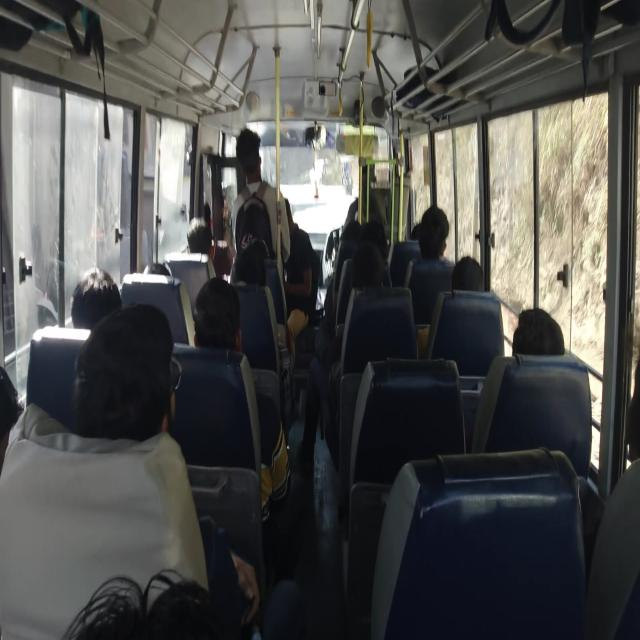person: (31, 520, 321, 640), (81, 296, 198, 478), (268, 189, 322, 335), (507, 294, 568, 388), (617, 351, 640, 473), (188, 285, 233, 344), (68, 256, 111, 311), (330, 248, 379, 293), (235, 136, 270, 193), (178, 214, 216, 260), (128, 251, 166, 291), (431, 198, 454, 262), (336, 212, 379, 245), (450, 260, 486, 295), (232, 248, 268, 281), (233, 231, 273, 253), (190, 196, 214, 231), (408, 218, 437, 246)
